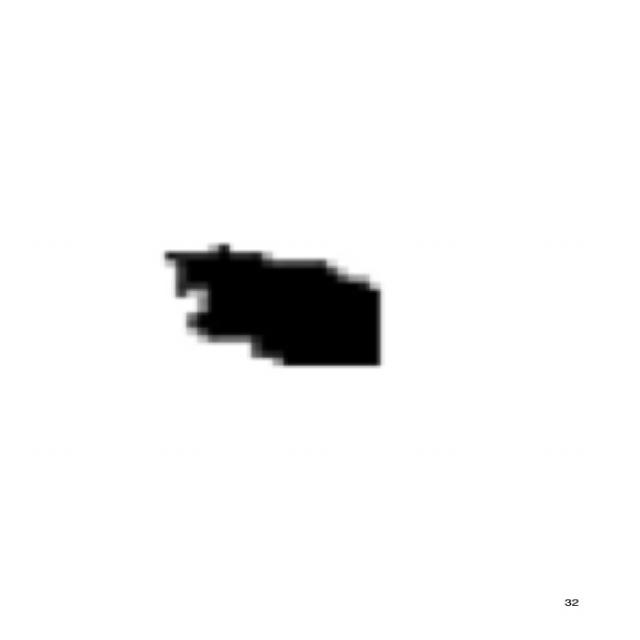0 -zero-: (150, 234, 394, 379)
